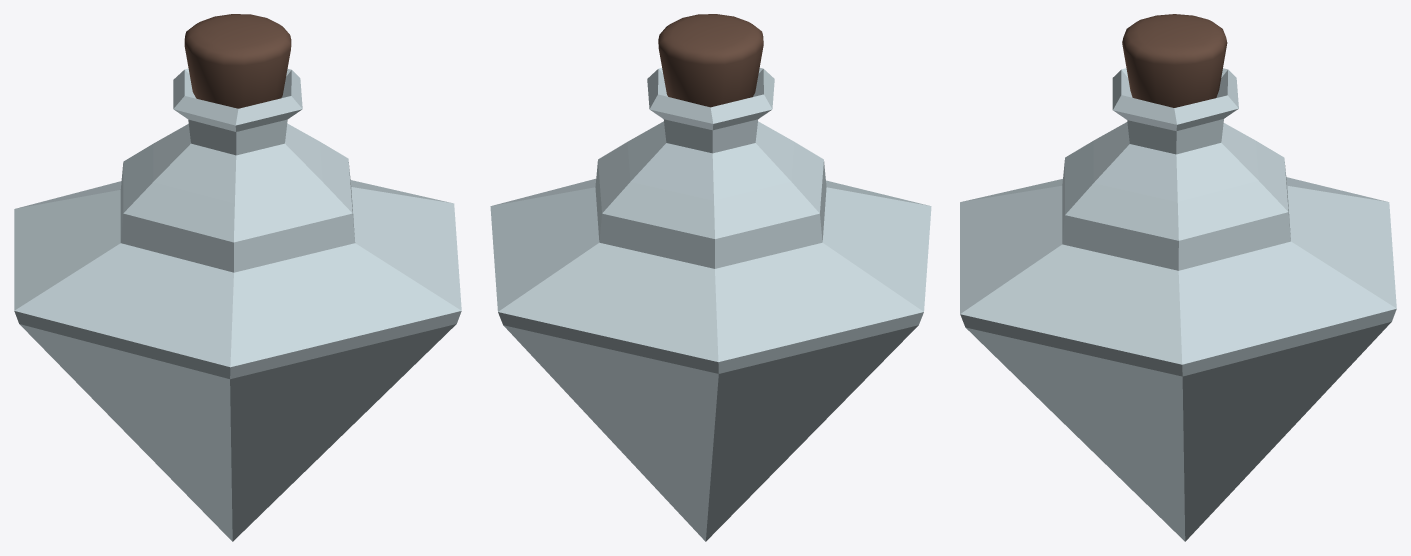
The model's file is rpg_potion11_filled.glb.
The picture shows the model from 3 angles, left to right: view 1: azimuth 30°, elevation 25°; view 2: azimuth 150°, elevation 25°; view 3: azimuth 270°, elevation 25°; orthographic projection.
Parts seen in each view (by area): view 1: Potion11_Filled; view 2: Potion11_Filled; view 3: Potion11_Filled.
Part boxes in pixels (x1,y1,x2,y2): Potion11_Filled: [14, 14, 461, 541]; Potion11_Filled: [490, 14, 931, 541]; Potion11_Filled: [960, 14, 1396, 541].
Bounding box in the file's own units: 0.8358 × 0.9373 × 0.7238.
